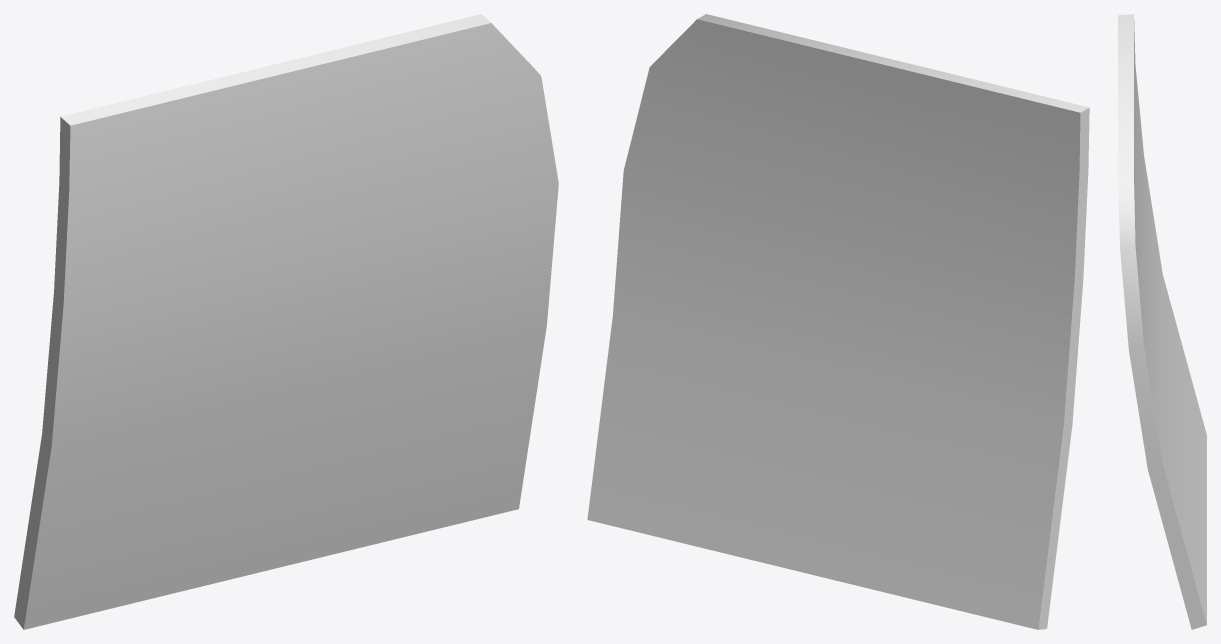
3 views of the same model, side by side, from view 1: azimuth 30°, elevation 25°; view 2: azimuth 150°, elevation 25°; view 3: azimuth 270°, elevation 25° (orthographic). The views are drawn at different scales.
Bounding box in the file's own units: 0.2218 × 0.2312 × 0.0437.
Materials: 1 (1 with a texture image).
